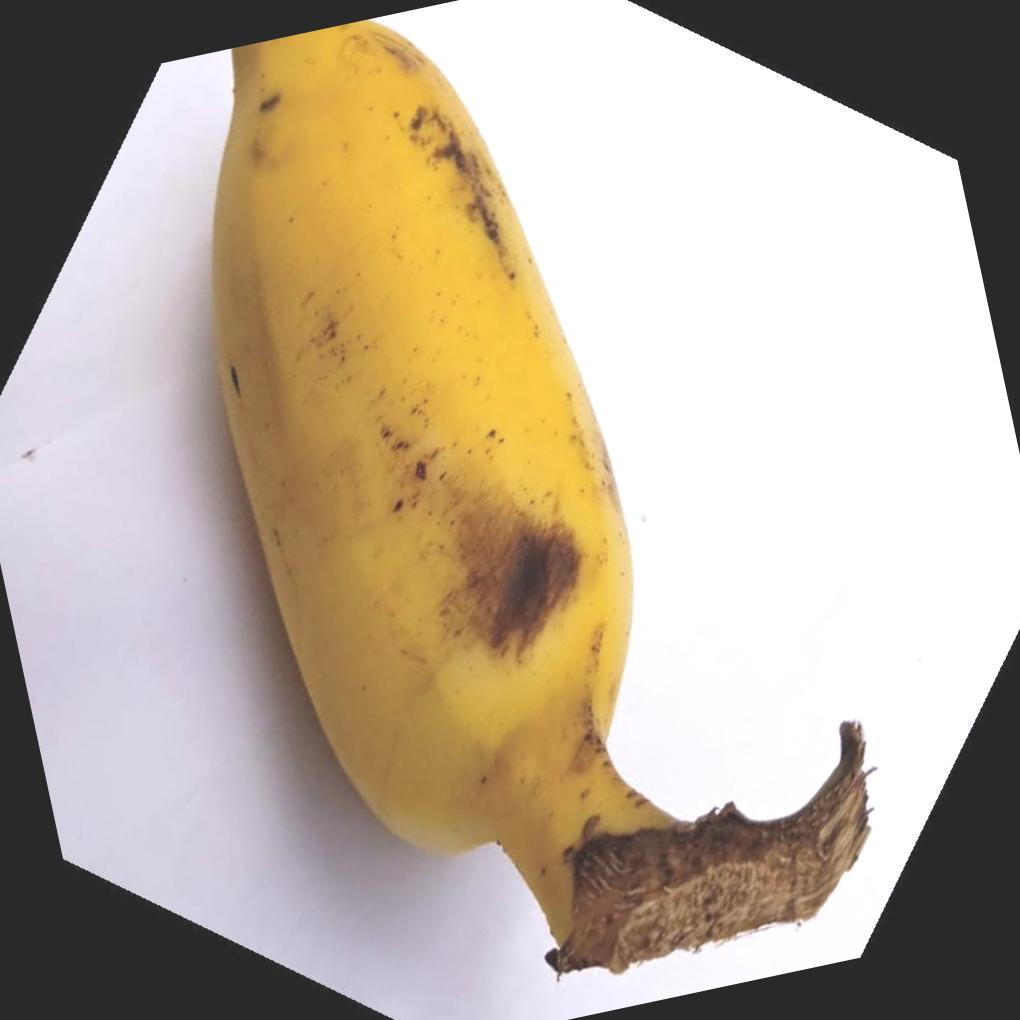Banana Ripe: (143, 0, 813, 1020)
